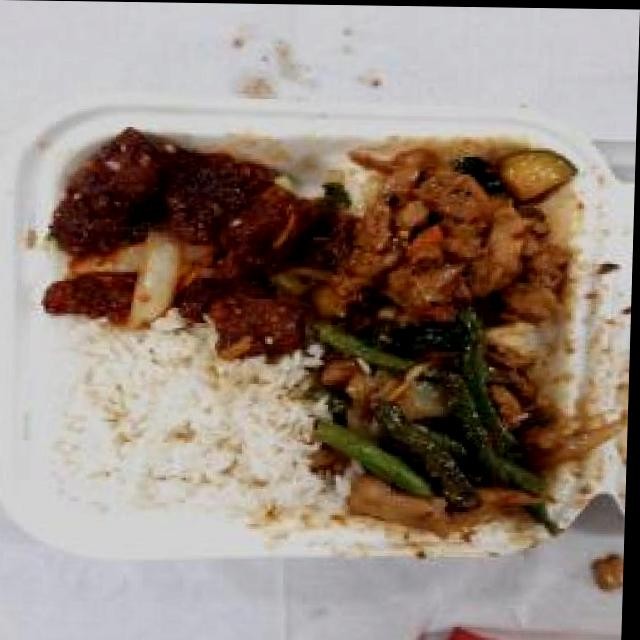Beijing Beef: (42, 128, 332, 339)
Kung Pao Chicken: (327, 132, 590, 338)
String Bean Chicken Breast: (326, 334, 545, 531)
White Steamed Rice: (60, 336, 322, 522)
